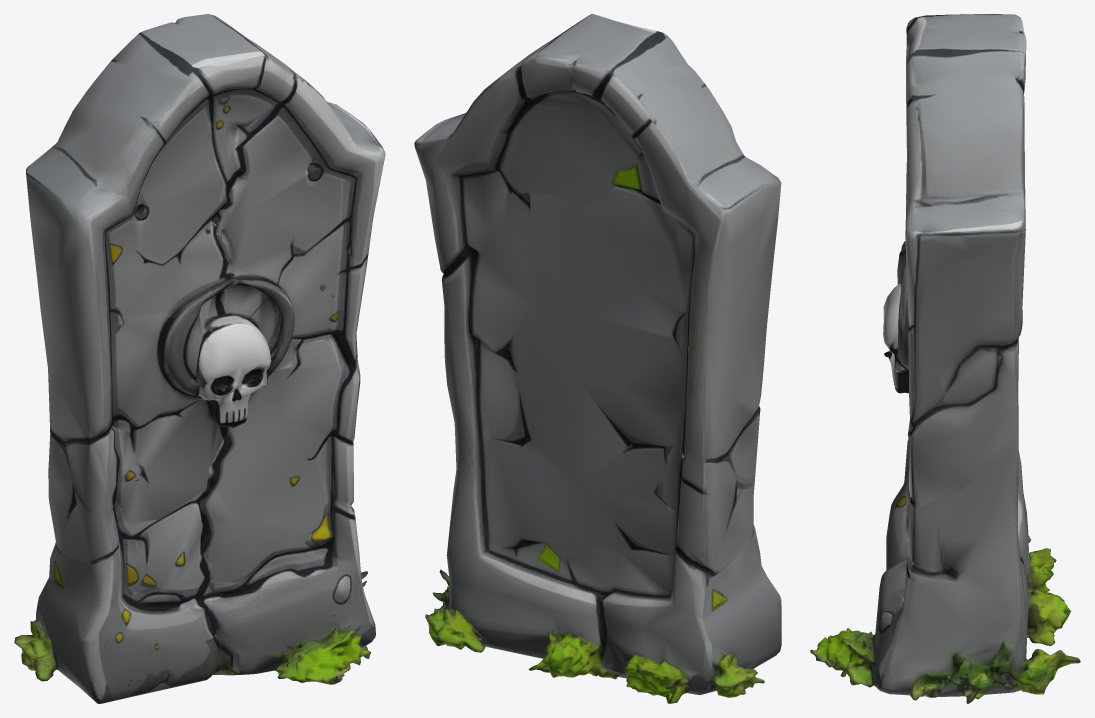
The model's file is Tombstone.glb.
The picture shows the model from 3 angles, left to right: view 1: azimuth 30°, elevation 25°; view 2: azimuth 150°, elevation 25°; view 3: azimuth 270°, elevation 25°; orthographic projection.
Bounding box in the file's own units: 1.13 × 2 × 0.8089.
Materials: 1 (1 with a texture image).
